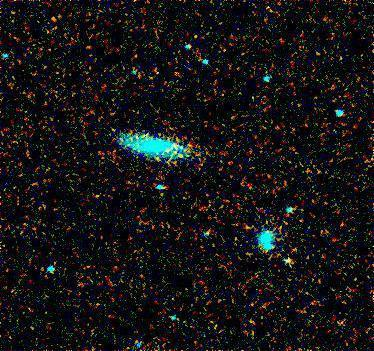star: (158, 134, 188, 164)
